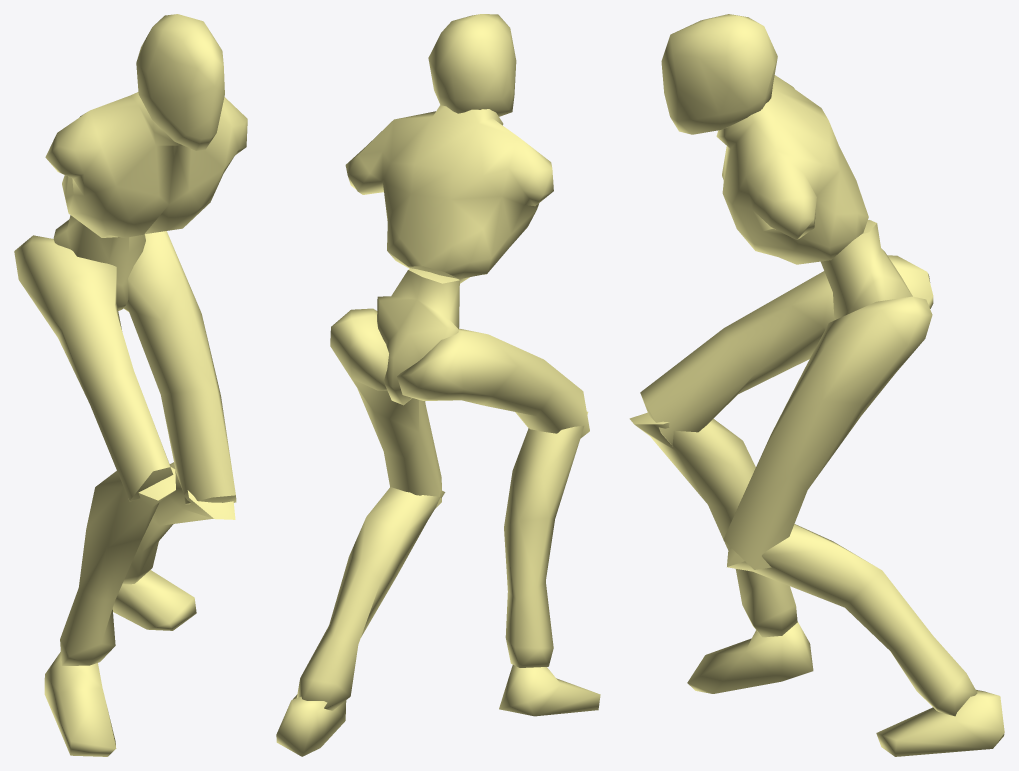
File: filth49.obj
The picture shows the model from 3 angles, left to right: view 1: azimuth 30°, elevation 25°; view 2: azimuth 150°, elevation 25°; view 3: azimuth 270°, elevation 25°; orthographic projection. The views are drawn at different scales.
Parts seen in each view (by area): view 1: Melee_Husk; view 2: Melee_Husk; view 3: Melee_Husk.
Boxes of the visible parts, x1,y1,x2,y2 form: Melee_Husk: (14, 14, 247, 756); Melee_Husk: (276, 14, 600, 756); Melee_Husk: (629, 14, 1004, 756).
Bounding box in the file's own units: 22.11 × 68.02 × 32.12.
